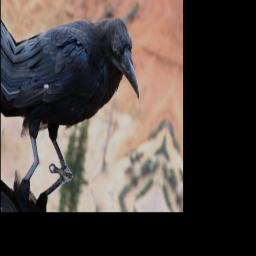Crow: (2, 0, 150, 199)
